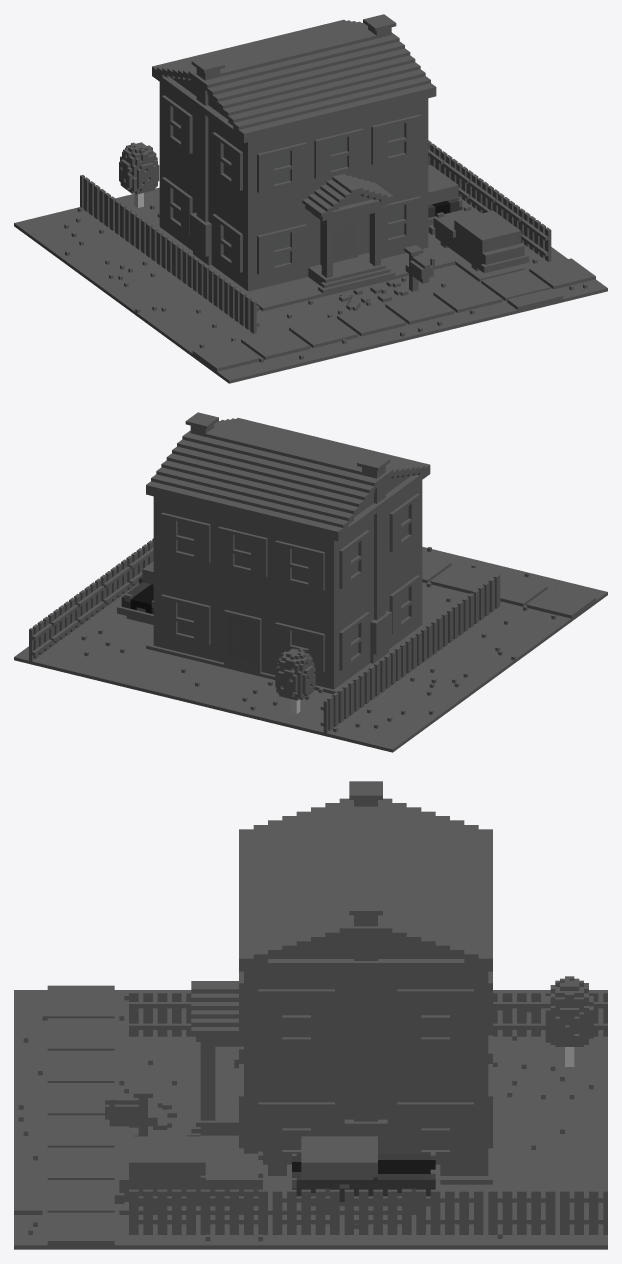
The model's file is scene_house6.obj.
3 views of the same model, one above another, from view 1: azimuth 30°, elevation 25°; view 2: azimuth 150°, elevation 25°; view 3: azimuth 270°, elevation 25° (orthographic). The views are drawn at different scales.
Size of the model in its own units: 126 by 64 by 124.
